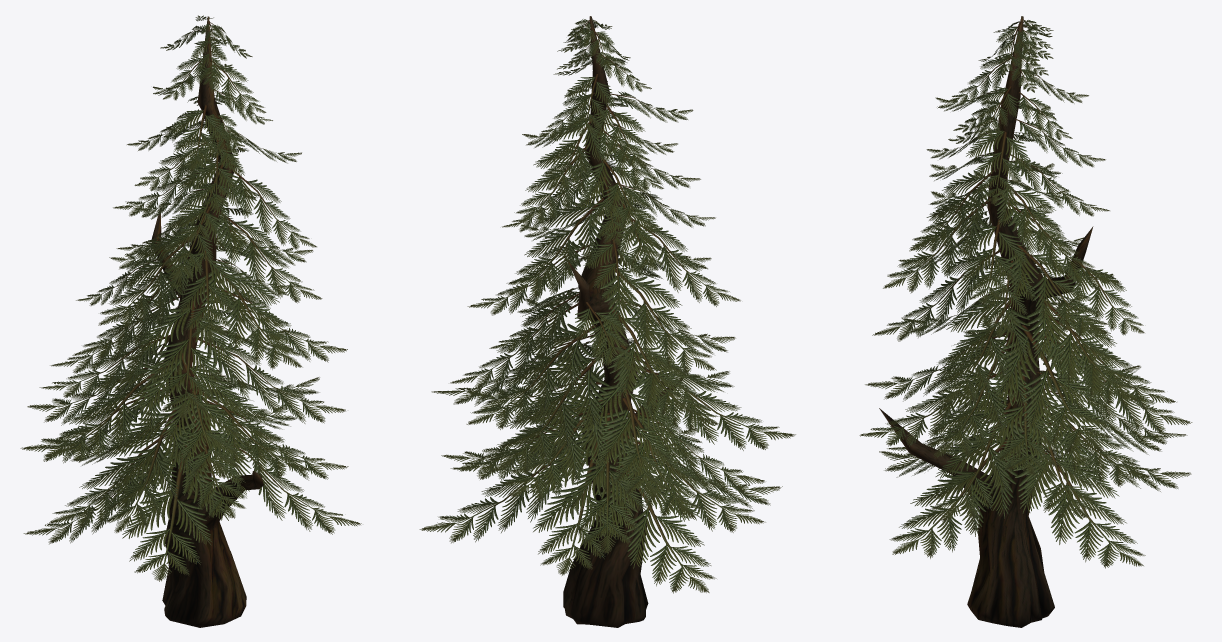
File: stylized_pine.glb
3 views of the same model, side by side, from view 1: azimuth 30°, elevation 25°; view 2: azimuth 150°, elevation 25°; view 3: azimuth 270°, elevation 25° (orthographic).
Parts seen in each view (by area): view 1: Tree; view 2: Tree; view 3: Tree.
Boxes of the visible parts, bbox=[...] form: Tree: bbox=[20, 15, 361, 627]; Tree: bbox=[419, 16, 795, 627]; Tree: bbox=[859, 16, 1192, 627].
Bounding box in the file's own units: 5.42 × 9.23 × 5.09.
1 material, 1 textured.
